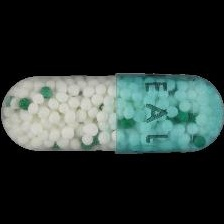66336-687: (0, 0, 224, 224)
